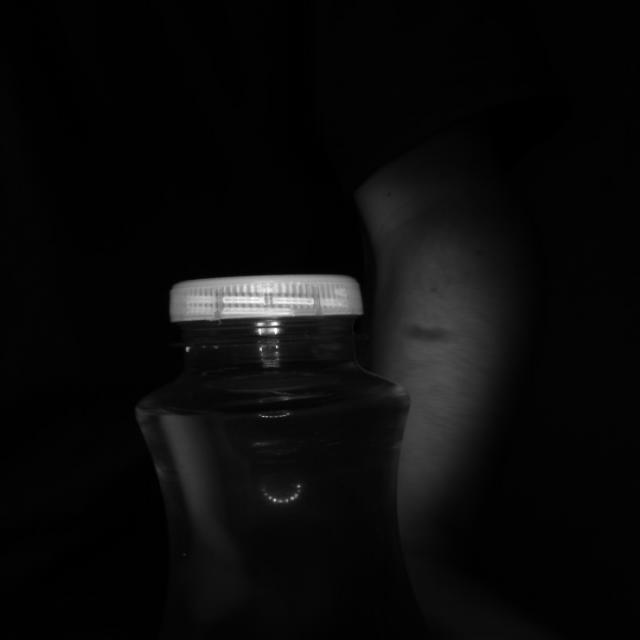Not Good: (170, 276, 364, 354)
